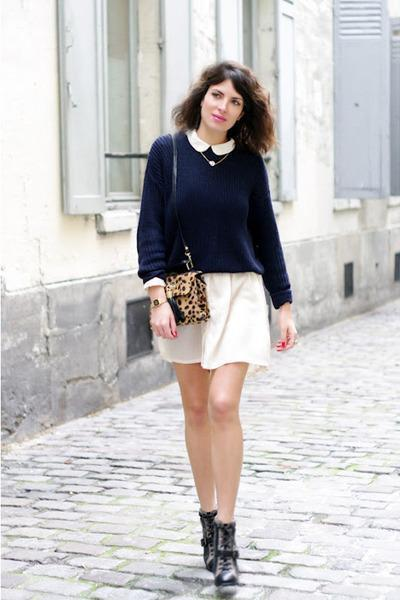bag: (167, 271, 227, 338)
jacket: (137, 129, 291, 321)
shoe: (199, 510, 237, 585)
skirt: (151, 272, 270, 369)
